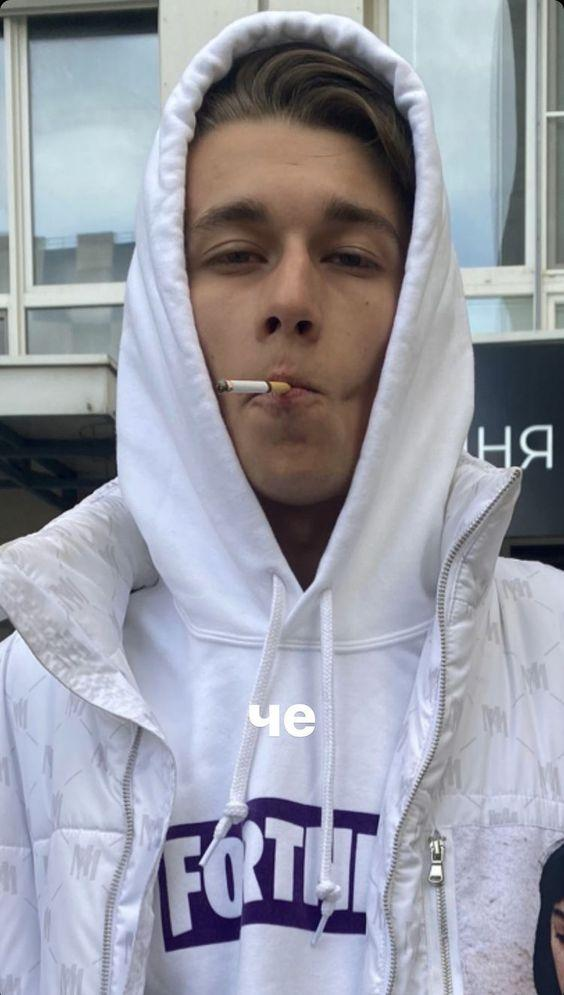cigarette: (216, 380, 292, 393)
